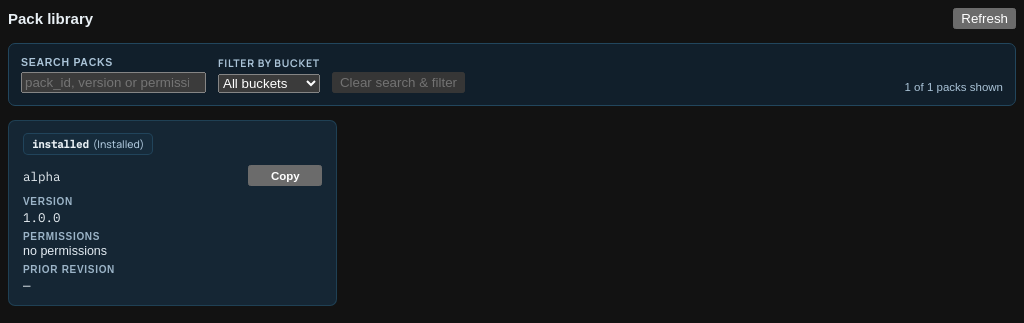
Test: PackLibrary Refresh › refetches on demand and replaces the rows
The image size is (1024, 323).
Expected: the list item with test id "pack-library-row-alpha" is shown, x1=8 y1=120 x2=337 y2=306
Click the button with test id "pack-library-refresh" at (985, 18), box x1=953 y1=8 x2=1016 y2=29
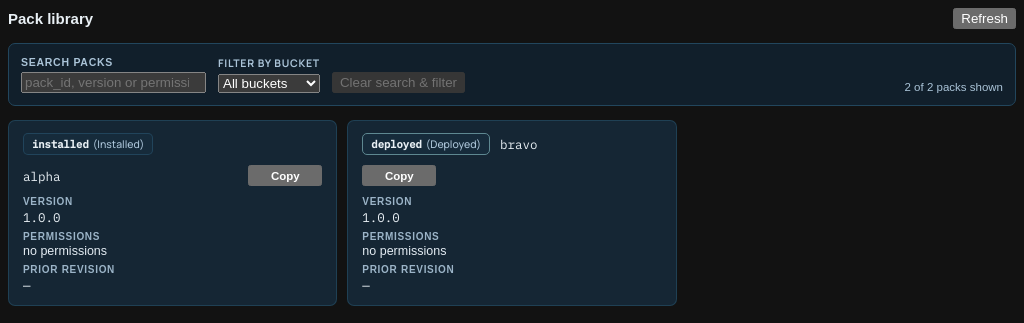
Result: the list item with test id "pack-library-row-bravo" is shown at x1=347 y1=120 x2=677 y2=306
